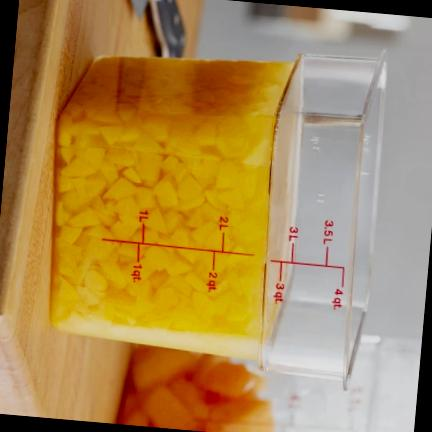container: (50, 54, 385, 390)
fluid: (50, 57, 300, 367)
fluid-surface: (263, 56, 301, 363)
